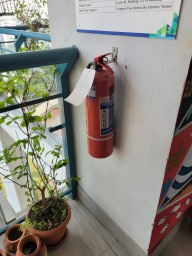fire_extinguisher: (40, 97, 119, 143)
